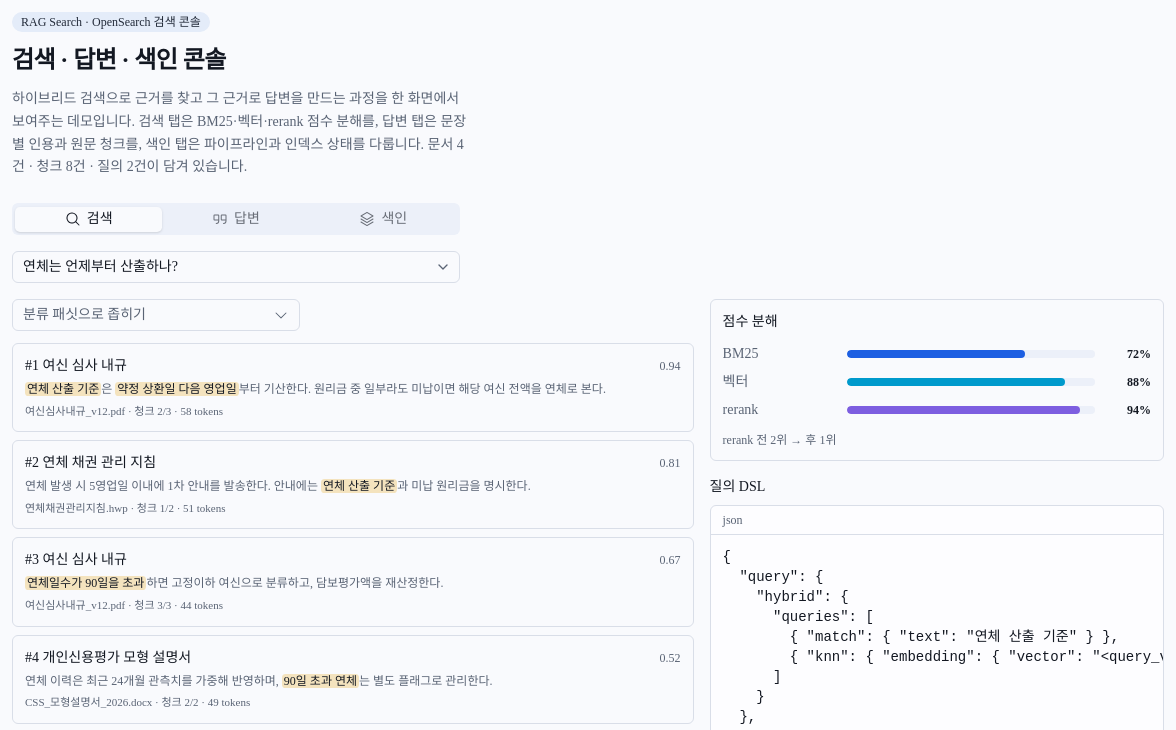
Scenario: RagSearchPage › 답변 탭의 인용 배지를 누르면 인용 패널이 그 청크로 바뀐다
Press the mouse on the tab "답변": x=236, y=219 [162, 206, 310, 232]
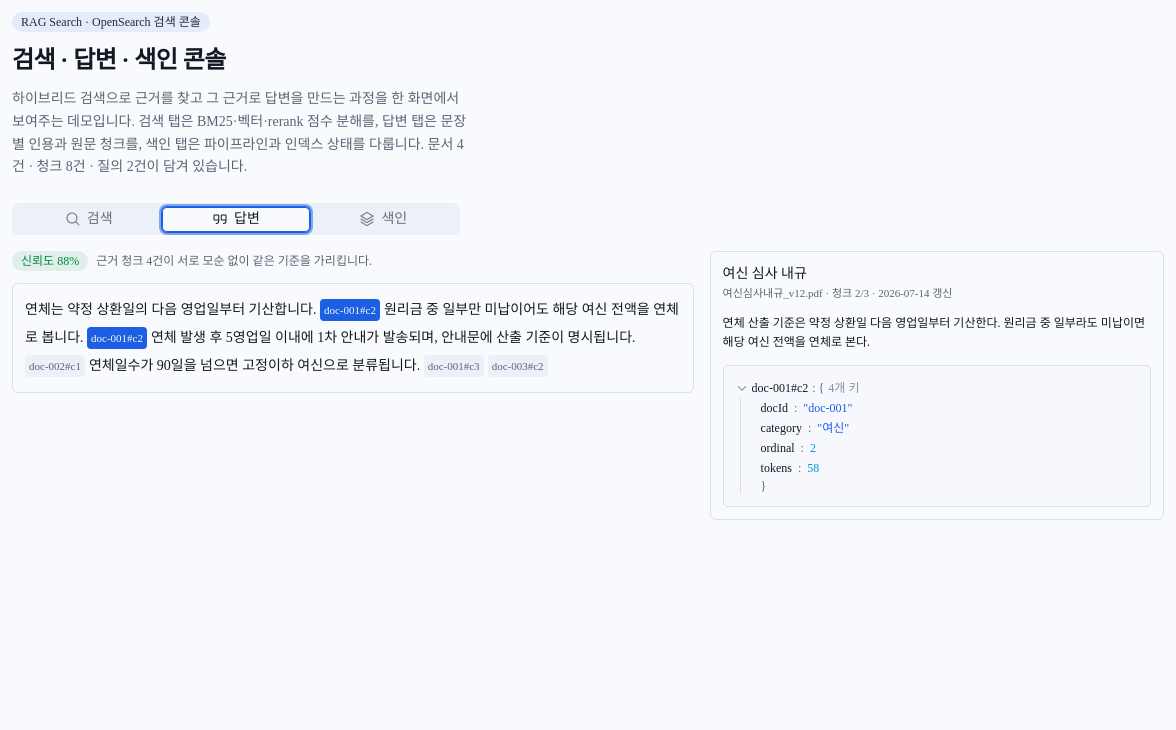
Click the button with aria-label "근거 doc-002#c1": x=55, y=366 [25, 355, 85, 377]
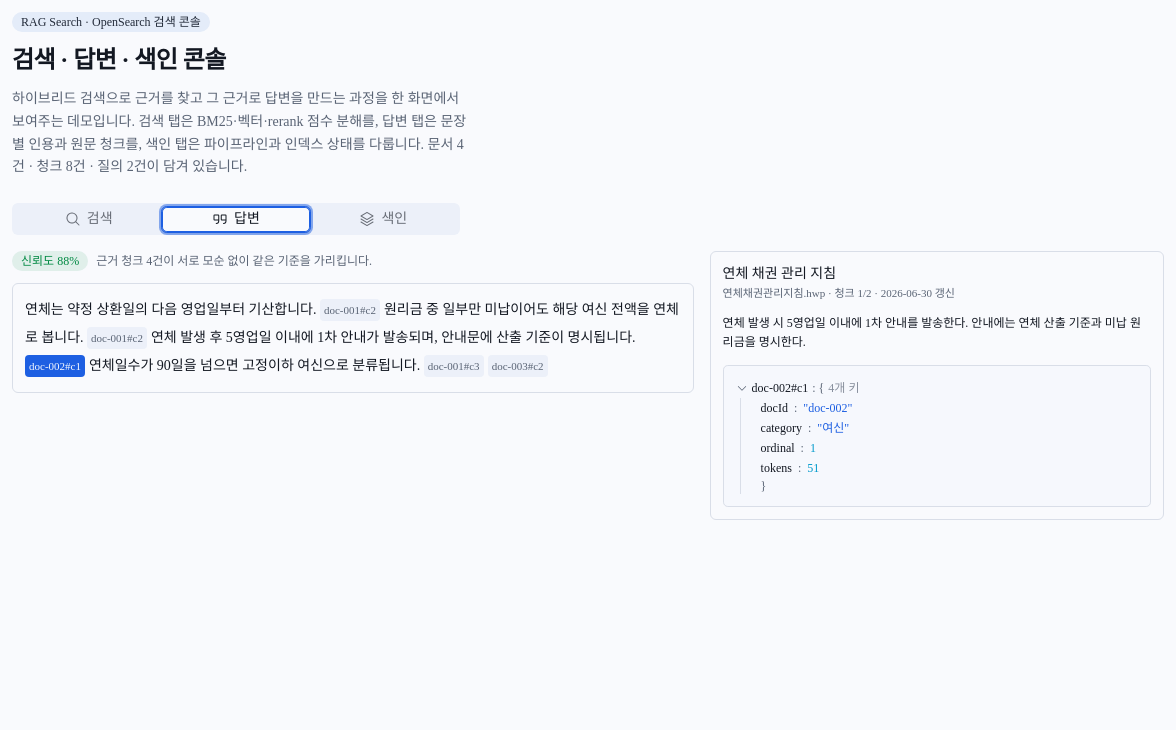
expect the text named "인용 원문" shows "5영업일 이내에 1차 안내": met, box [723, 316, 1141, 349]
